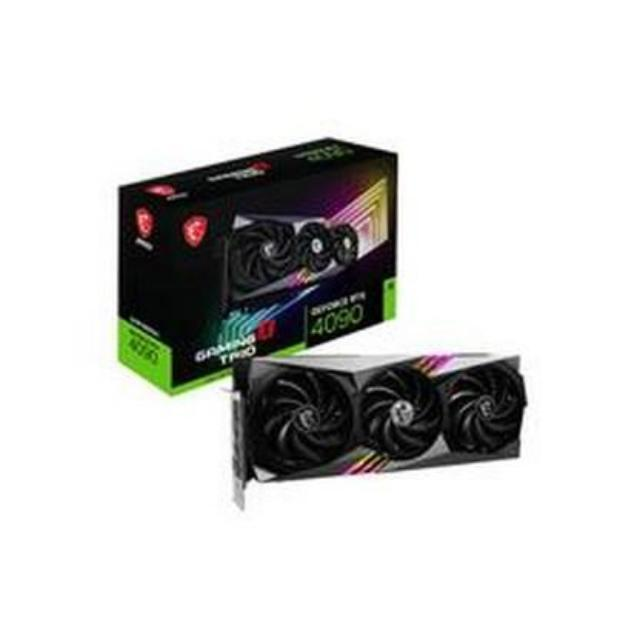GPU: (230, 350, 528, 487)
